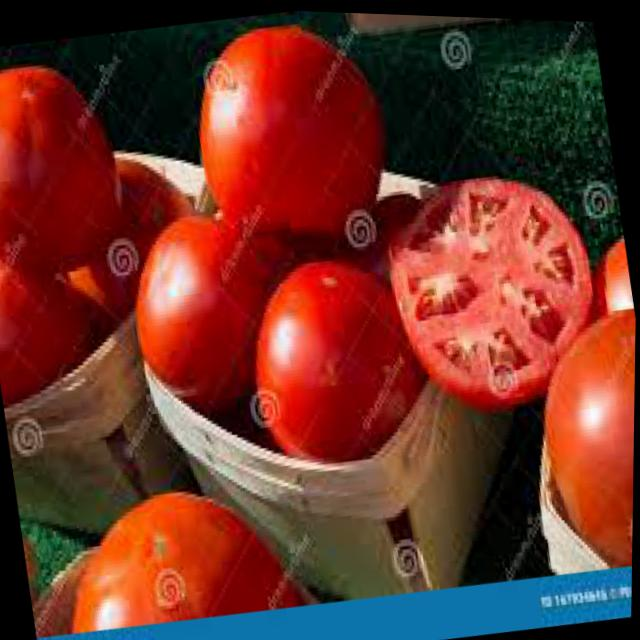tomato: (183, 7, 402, 244), (19, 467, 319, 640), (122, 199, 318, 447), (232, 241, 427, 474), (0, 54, 137, 299), (525, 303, 637, 569)
